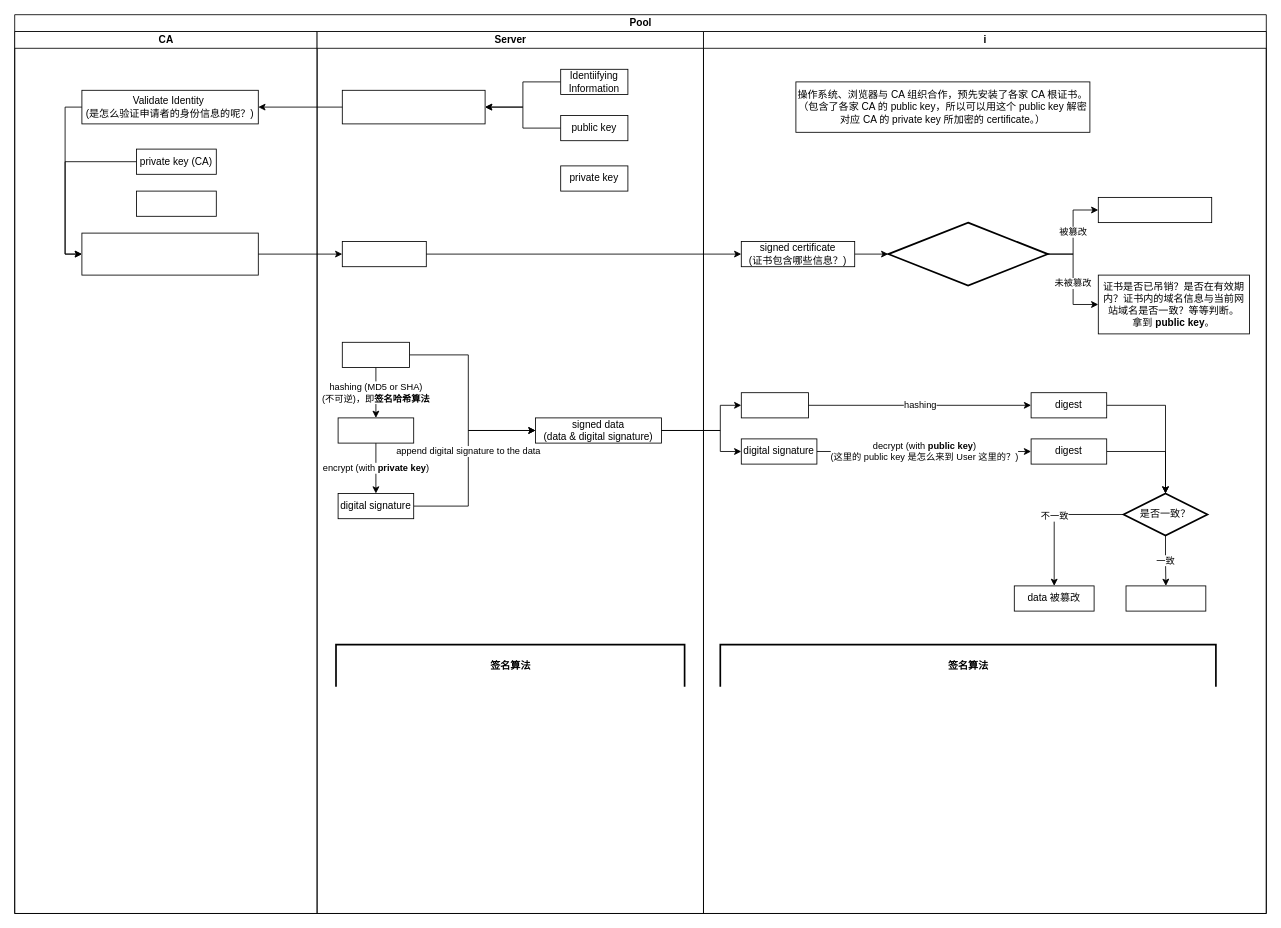
Image size: 1281x928. Some labels were removed from this diagram. The shapes that lost their labels are listed below. From the top down, each one's centre as x and y in pixels, then its label:
the point at 413,106: 生成 CSR (Certificate signing Request)
the point at 176,203: public key (CA)
the point at 1154,210: 证书不可信
the point at 169,253: Generate Signed Certificate and Send back to Applicant. (具体是怎么 sign 的？)
the point at 383,254: signed certificate
the point at 967,253: （用到 public key (CA) 进行解密） 通过 指纹算法 判断 其中的数据是否被篡改
the point at 375,354: data（数据）
the point at 774,405: data
the point at 375,430: digest（摘要）
the point at 1165,598: data 没有被篡改
